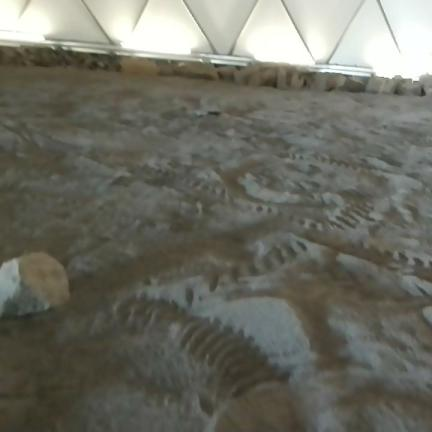Rock: (0, 252, 70, 317), (311, 73, 366, 92), (179, 63, 218, 80), (277, 68, 304, 89), (366, 77, 397, 94), (234, 66, 259, 86), (396, 80, 422, 95), (259, 68, 278, 87), (216, 66, 237, 81), (156, 61, 175, 76), (419, 74, 431, 95)
